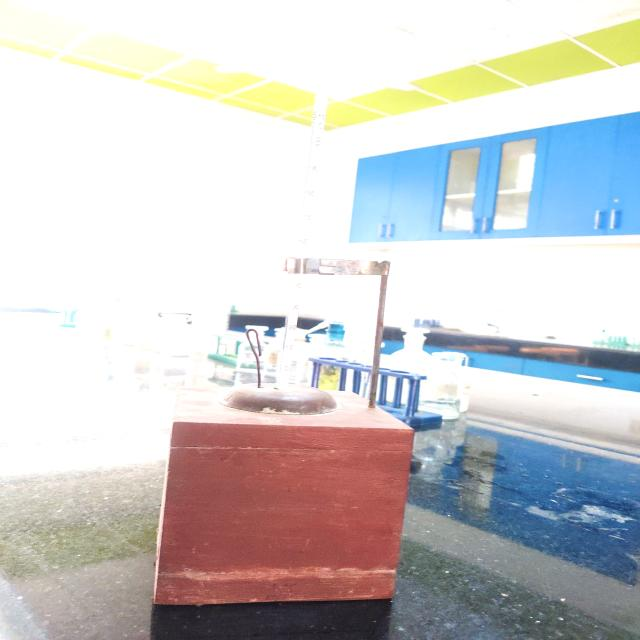Calorimeter: (130, 24, 463, 640)
